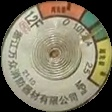green: (79, 11, 111, 43)
needle: (82, 26, 105, 42)
red: (36, 1, 88, 24)
yellow: (88, 39, 112, 91)
